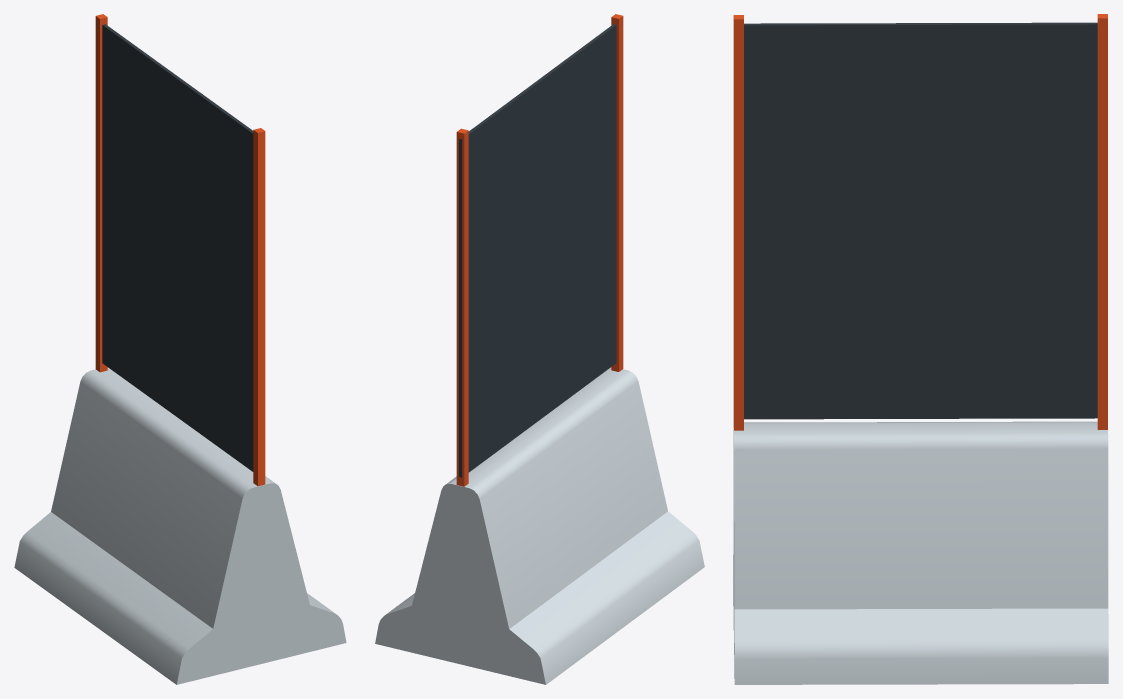
File: Ormigon_02.fbx
The picture shows the model from 3 angles, left to right: view 1: azimuth 30°, elevation 25°; view 2: azimuth 150°, elevation 25°; view 3: azimuth 270°, elevation 25°; orthographic projection. The views are drawn at different scales.
Visible parts, largest first — view 1: Ormigon_02; view 2: Ormigon_02; view 3: Ormigon_02.
Boxes of the visible parts, box(x1,y1,x2,y2) form: Ormigon_02: box(14, 14, 346, 684); Ormigon_02: box(375, 14, 704, 684); Ormigon_02: box(733, 14, 1108, 684).
Size of the model in its own units: 202 by 596 by 328.
